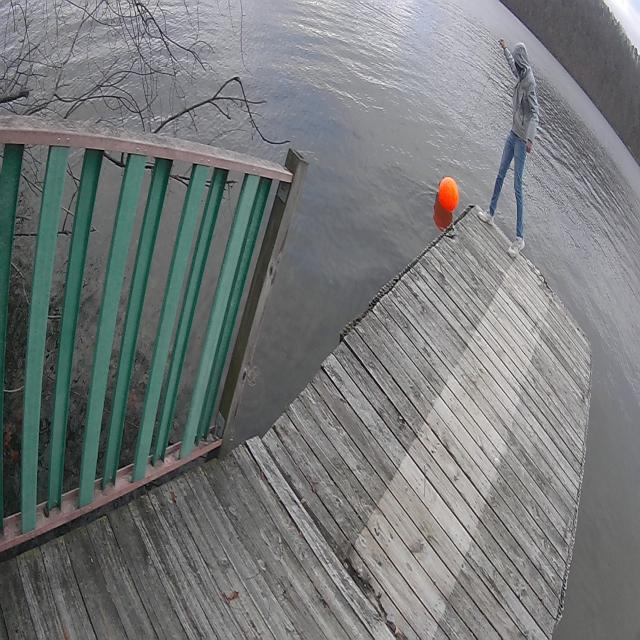Buoy: (432, 170, 464, 217)
